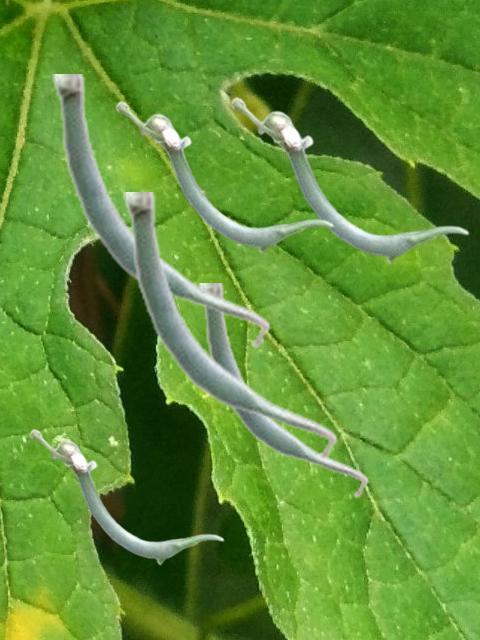french_bean: (52, 74, 270, 349), (123, 192, 337, 461), (230, 96, 468, 263), (198, 283, 368, 498), (115, 100, 333, 253), (29, 428, 223, 564)
